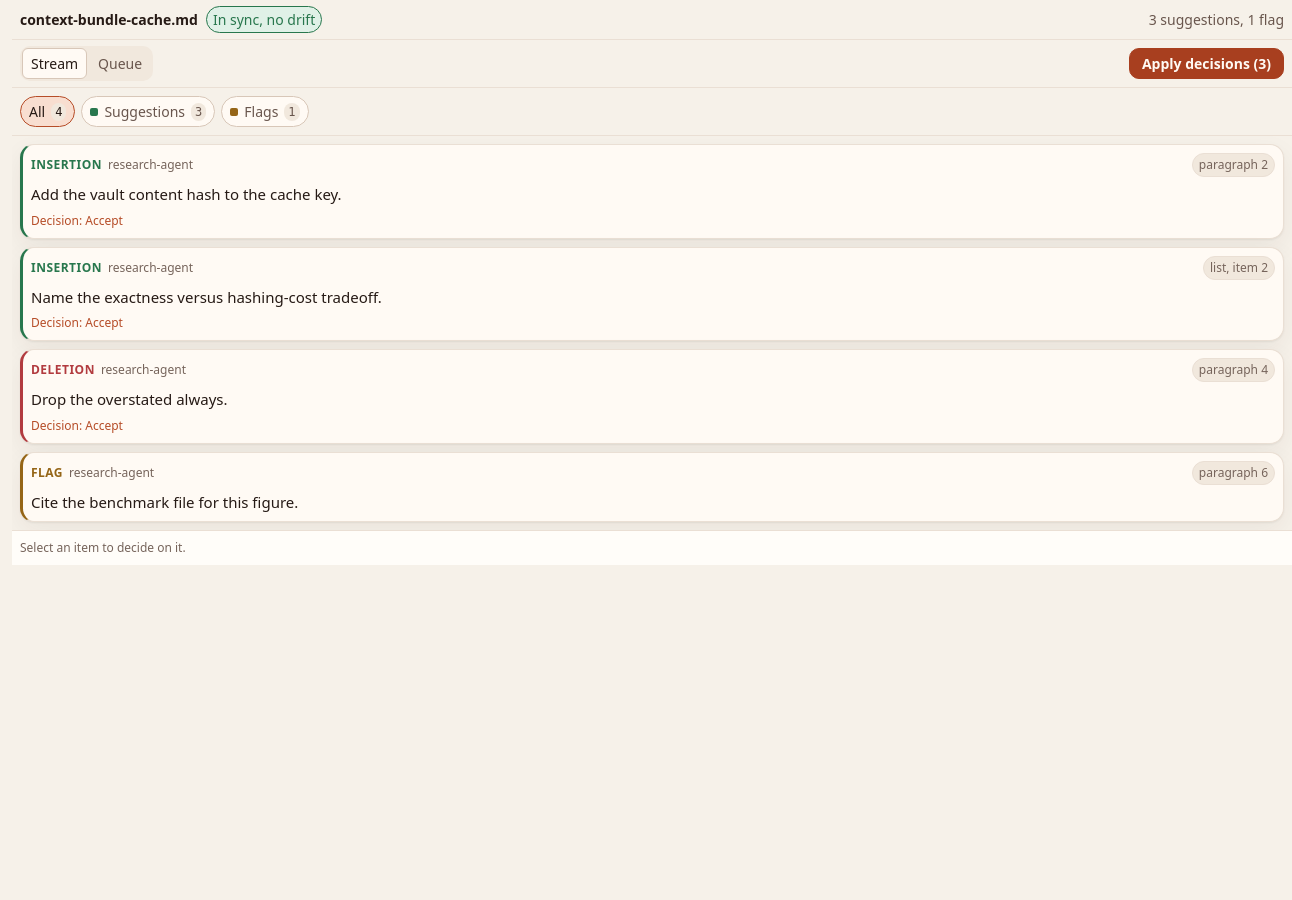
ReviewPanel › retries the exact confirmed subset after a generic failure
Expected: the text "Add the vault content hash to the cache key." is shown, x1=31 y1=184 x2=342 y2=204
Click the button "Apply decisions (3)" at (1206, 64), box x1=1129 y1=48 x2=1284 y2=79
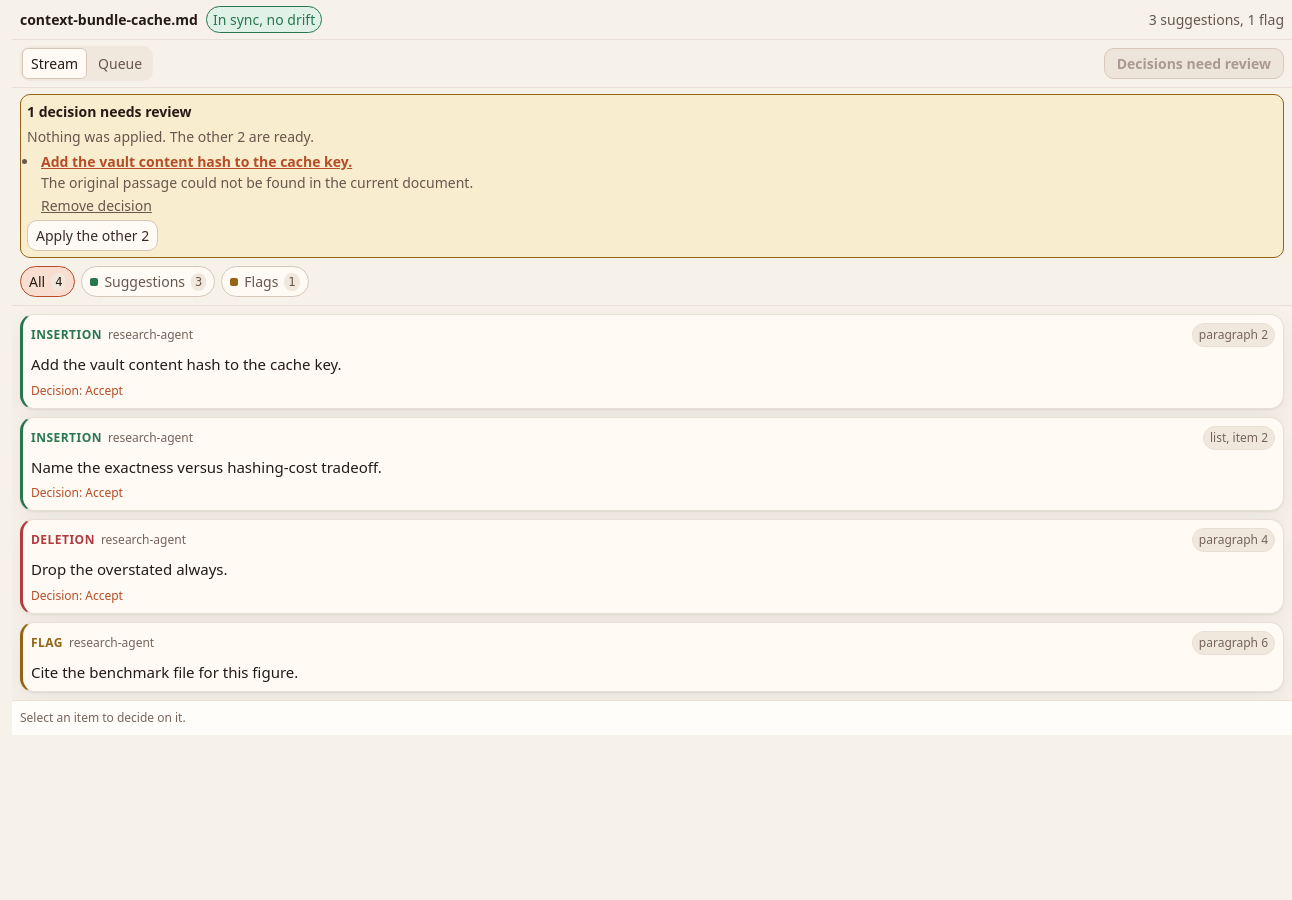
Expected: the text "1 decision needs review" is shown, x1=27 y1=102 x2=192 y2=121
Expected: the text "Nothing was applied. The other 2 are ready." is shown, x1=27 y1=127 x2=314 y2=146
Expected: the text "The original passage could not be found in the current document." is shown, x1=41 y1=173 x2=473 y2=192
Click the button "Apply the other 2" at (93, 236), box x1=27 y1=220 x2=158 y2=251
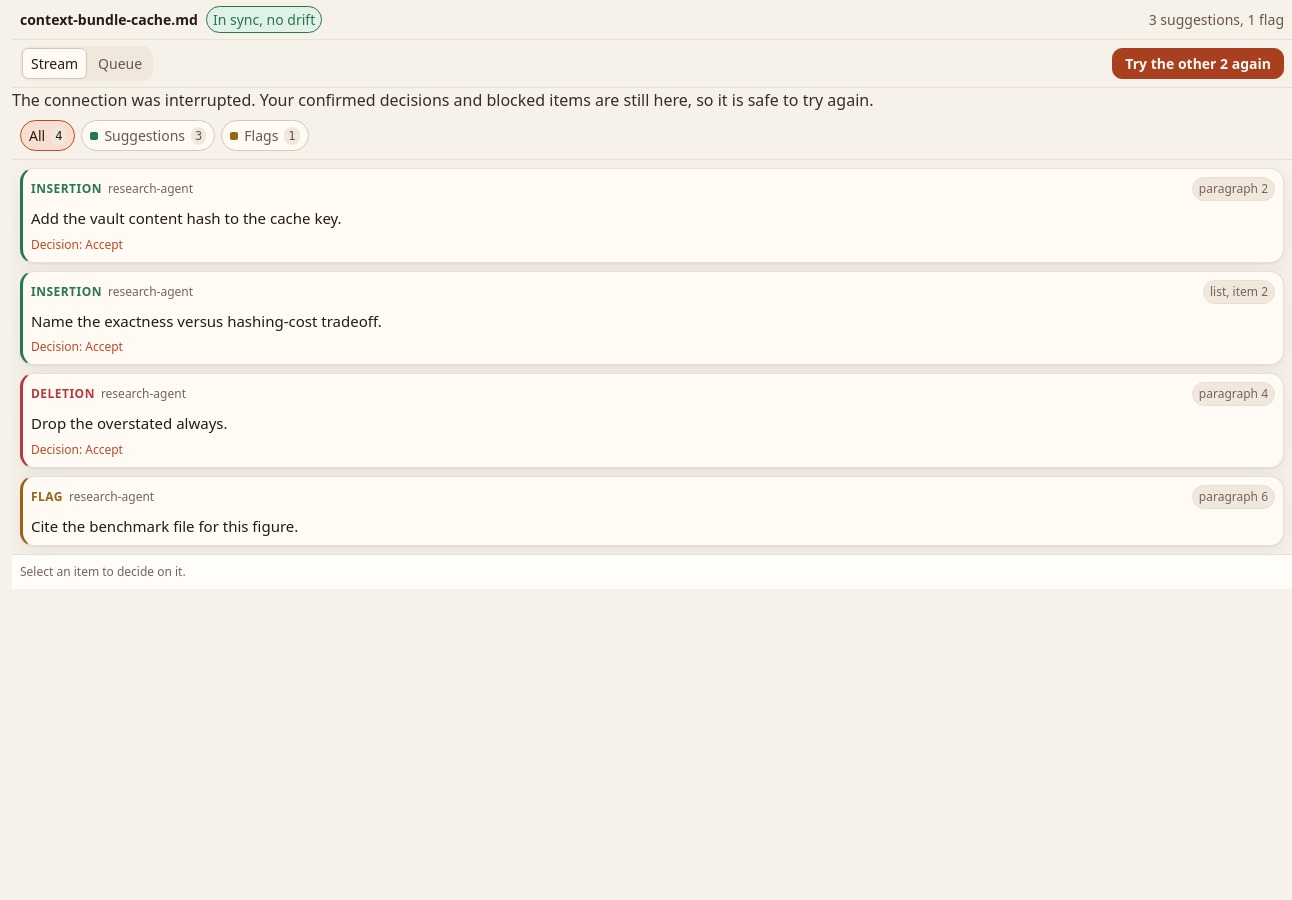
Click the button "Try the other 2 again" at (1198, 64), box x1=1112 y1=48 x2=1284 y2=79
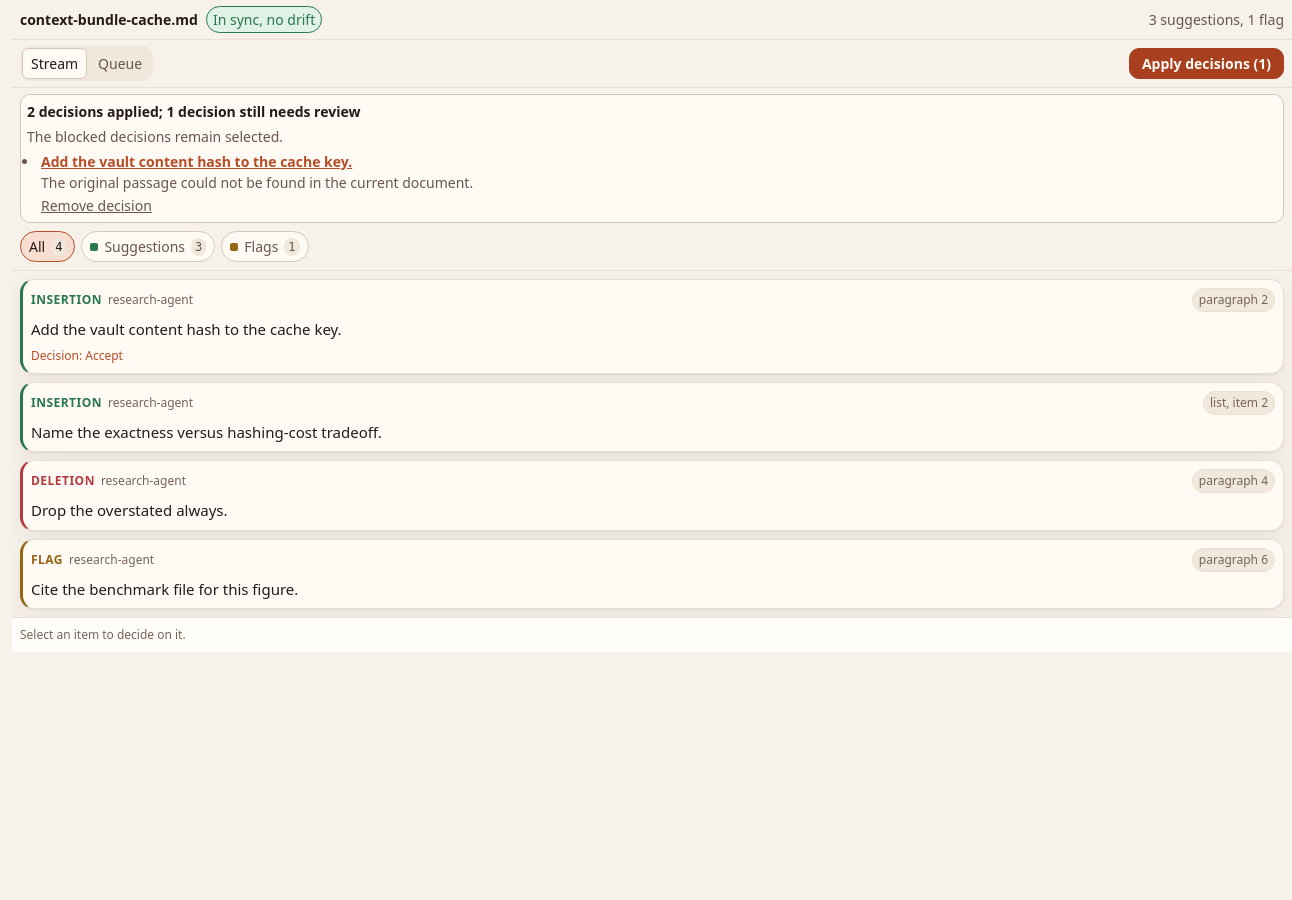
Expected: the text "2 decisions applied; 1 decision still needs review" is shown, x1=27 y1=102 x2=360 y2=121
